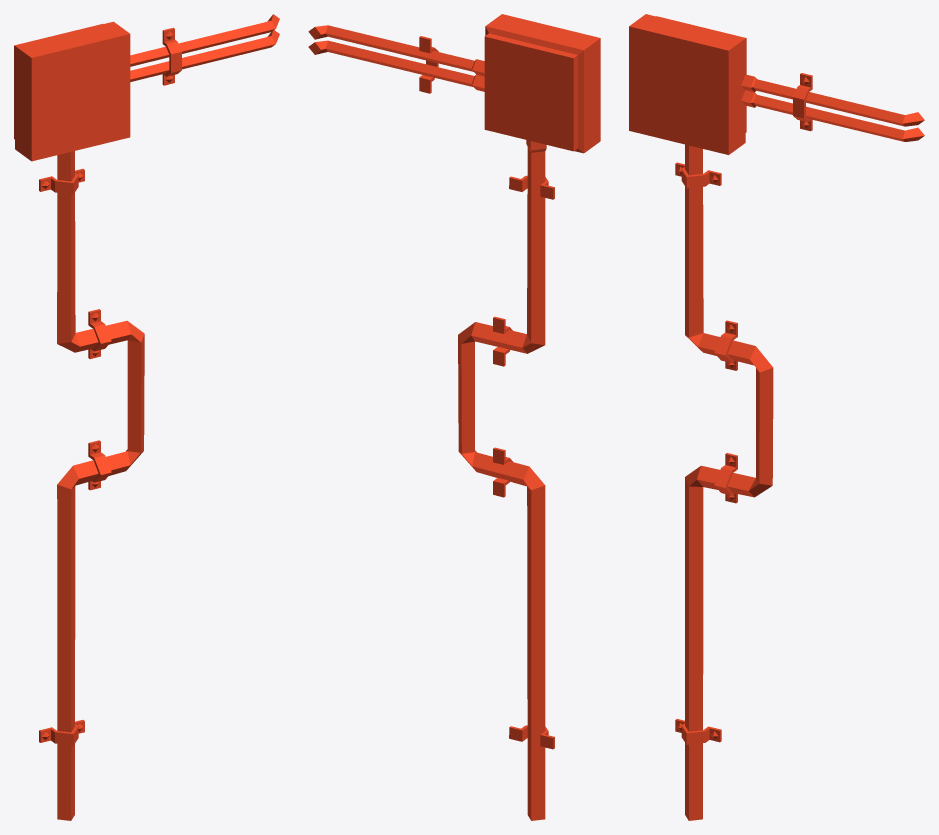
Rendered from SM_Cable_A_City.fbx.
3 renders of one model, left to right at view 1: azimuth 30°, elevation 25°; view 2: azimuth 150°, elevation 25°; view 3: azimuth 330°, elevation 25°, orthographic.
Visible parts, largest first — view 1: SM_Cable_City; view 2: SM_Cable_City; view 3: SM_Cable_City.
Part boxes in pixels (x1,y1,x2,y2): SM_Cable_City: (14, 14, 279, 820); SM_Cable_City: (308, 14, 600, 820); SM_Cable_City: (629, 14, 924, 820).
Size of the model in its own units: 0.3997 by 1.1 by 0.0573.
